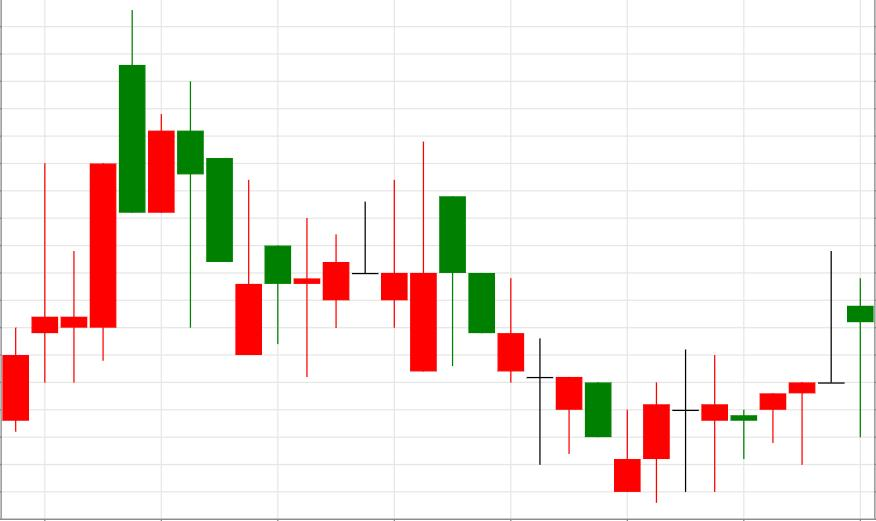inverse_hammer_rise: (440, 197, 641, 492)
